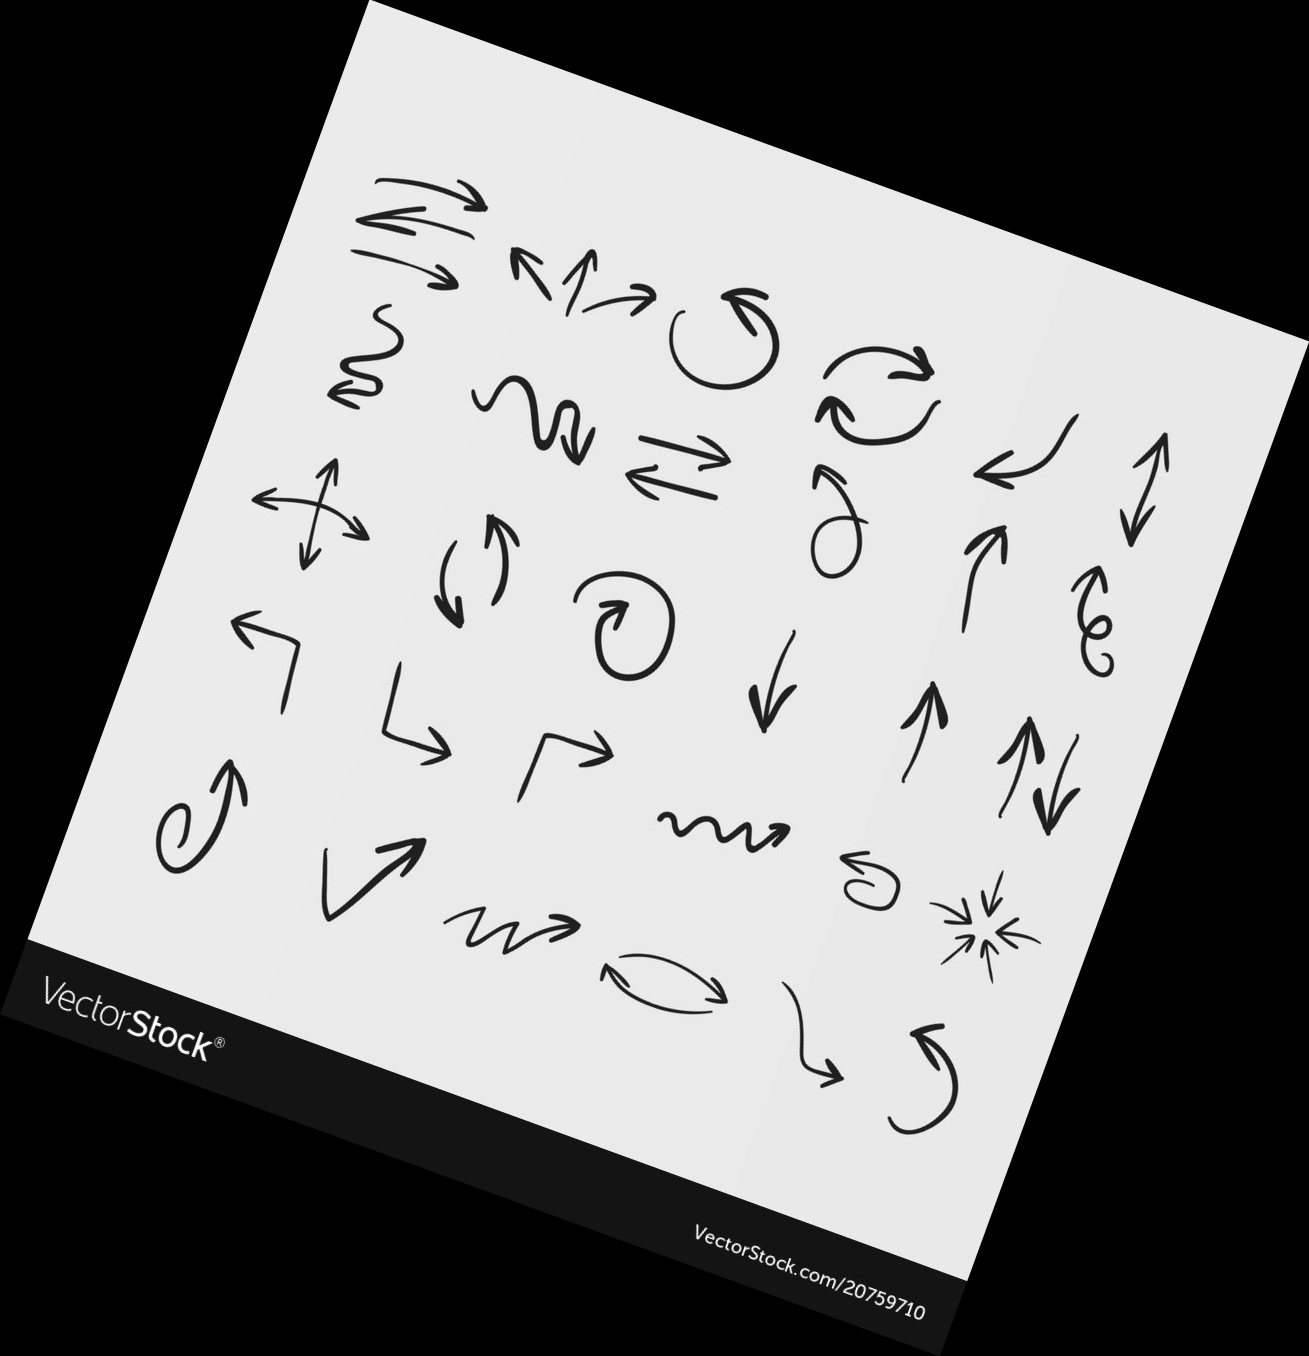arrow: (952, 515, 1017, 620), (803, 393, 913, 452), (966, 430, 1060, 498), (203, 755, 259, 861), (710, 283, 792, 354), (338, 833, 432, 894), (350, 194, 448, 247), (741, 657, 804, 740), (849, 333, 938, 387), (1127, 426, 1182, 513), (664, 413, 739, 476), (900, 680, 951, 772), (417, 563, 477, 637), (596, 958, 664, 1023), (473, 508, 527, 587), (906, 1019, 959, 1097), (578, 598, 635, 670), (998, 712, 1043, 801), (1116, 476, 1167, 555), (618, 456, 693, 508), (220, 607, 295, 657), (394, 720, 461, 776), (674, 950, 736, 1011), (556, 725, 624, 778), (396, 255, 471, 301), (436, 169, 499, 223), (521, 904, 589, 952), (559, 239, 607, 301), (798, 458, 856, 508), (500, 239, 550, 295), (599, 280, 664, 322), (559, 419, 604, 477), (1066, 563, 1114, 616), (753, 804, 800, 858), (804, 1047, 852, 1094), (246, 484, 309, 518), (309, 455, 349, 501), (334, 507, 374, 550)
